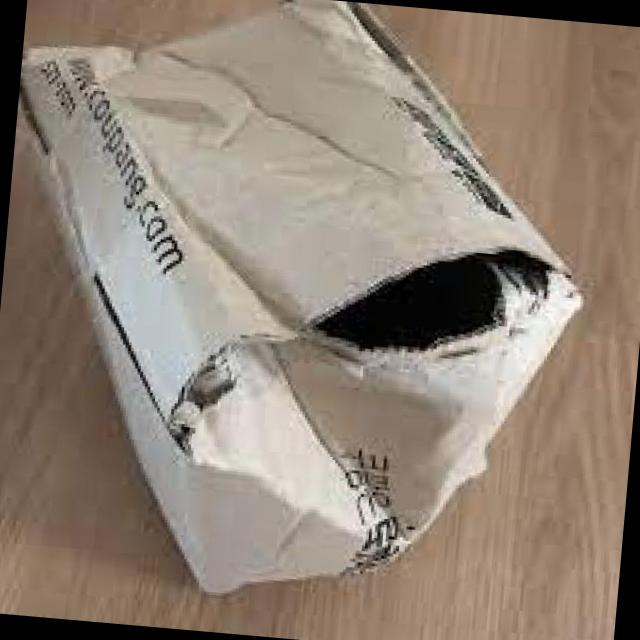box: (103, 72, 546, 577)
